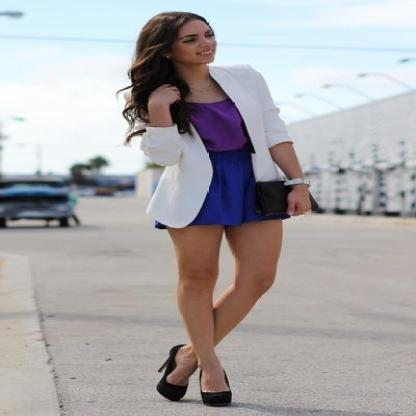bag: (244, 180, 294, 219)
dress: (190, 92, 268, 226)
jacket: (112, 66, 296, 228)
shoe: (157, 358, 231, 406)
